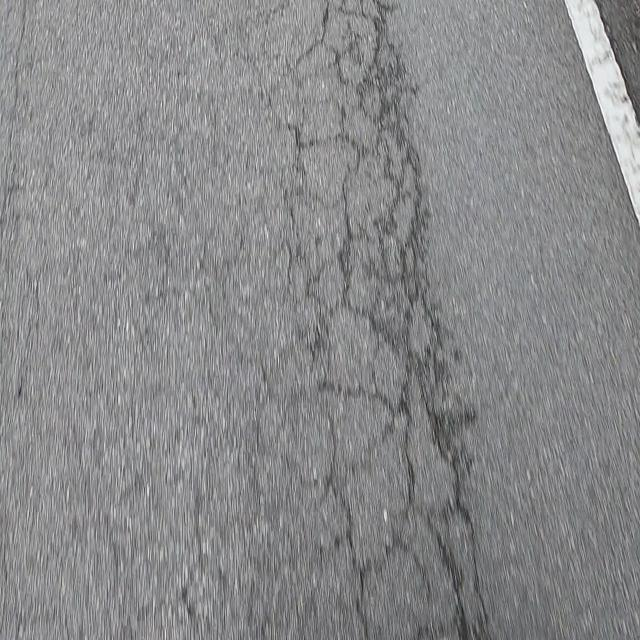Retak-Buaya: (291, 0, 490, 638)
